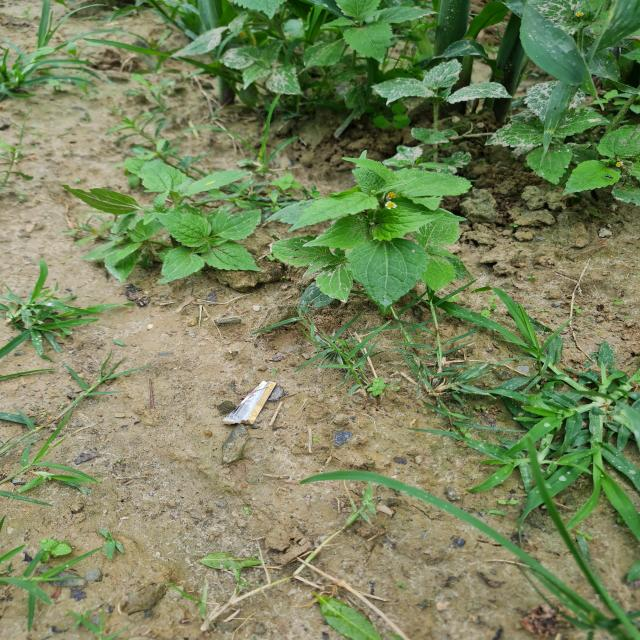weed: (451, 321, 640, 530), (284, 130, 476, 318), (104, 116, 271, 295), (0, 248, 93, 427), (0, 0, 74, 132)
